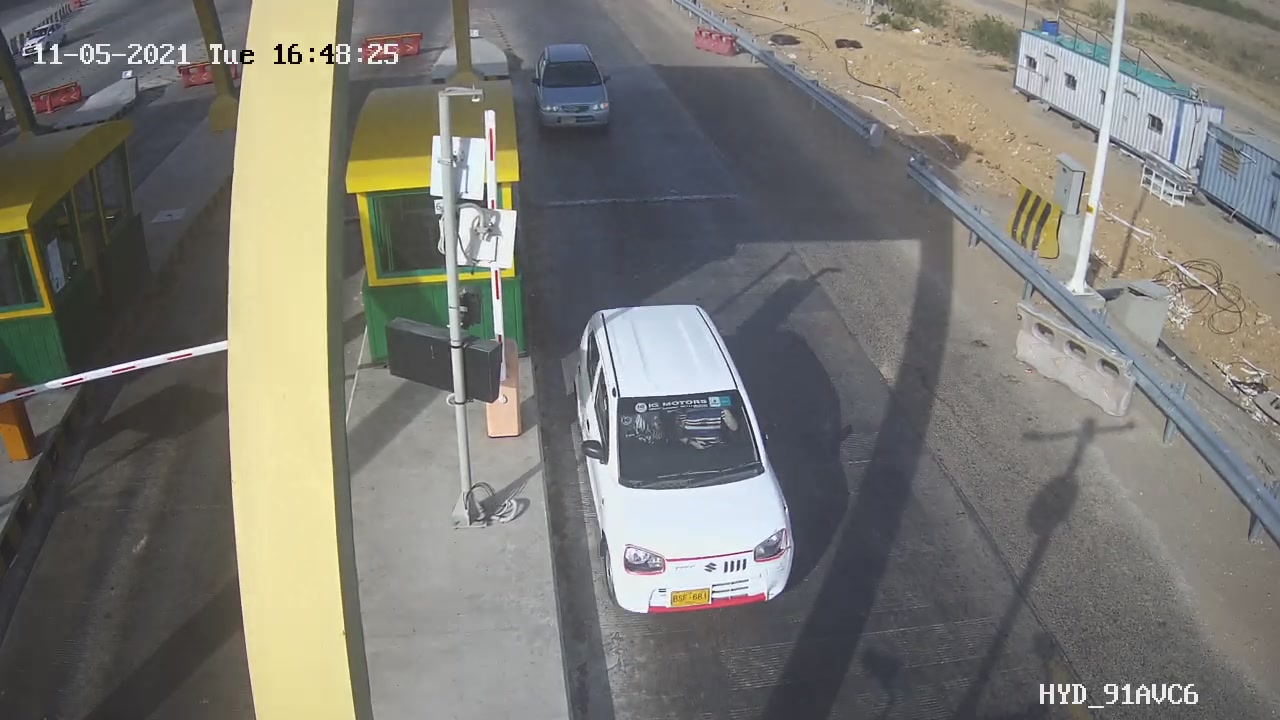F1: (522, 27, 626, 142)
